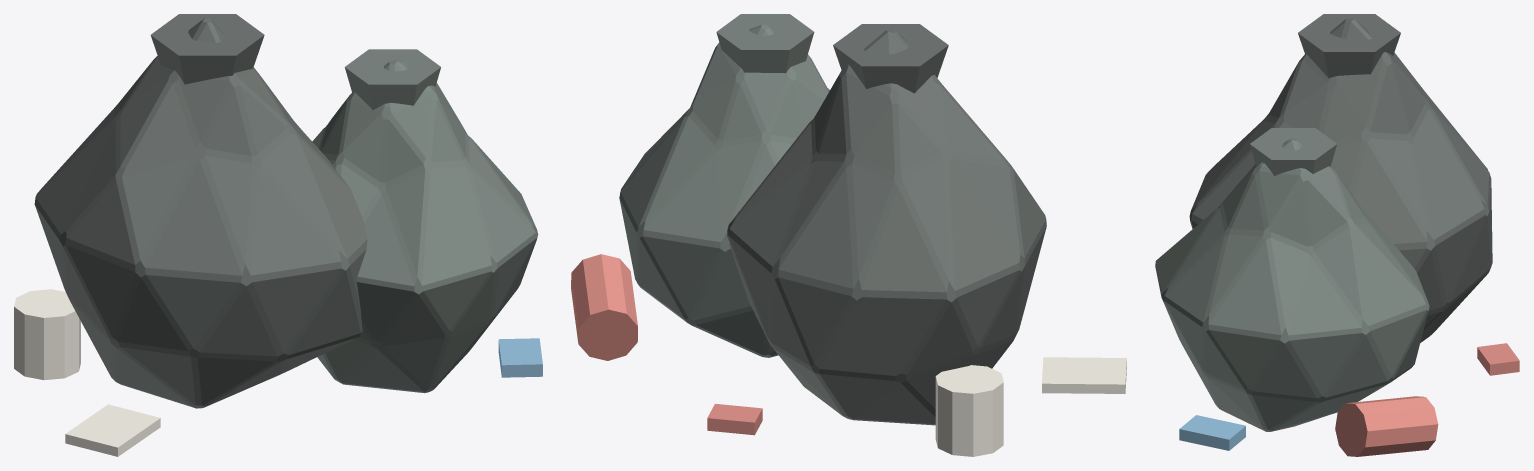
File: Prop_Litter_A.fbx
3 views of the same model, side by side, from view 1: azimuth 30°, elevation 25°; view 2: azimuth 150°, elevation 25°; view 3: azimuth 270°, elevation 25° (orthographic). The views are drawn at different scales.
Parts seen in each view (by area): view 1: Prop_Litter_A; view 2: Prop_Litter_A; view 3: Prop_Litter_A.
Boxes of the visible parts, <box> form: Prop_Litter_A: <box>14,14,542,456</box>; Prop_Litter_A: <box>571,14,1126,456</box>; Prop_Litter_A: <box>1155,14,1519,456</box>.
Size of the model in its own units: 0.8298 by 0.6049 by 0.5869.
